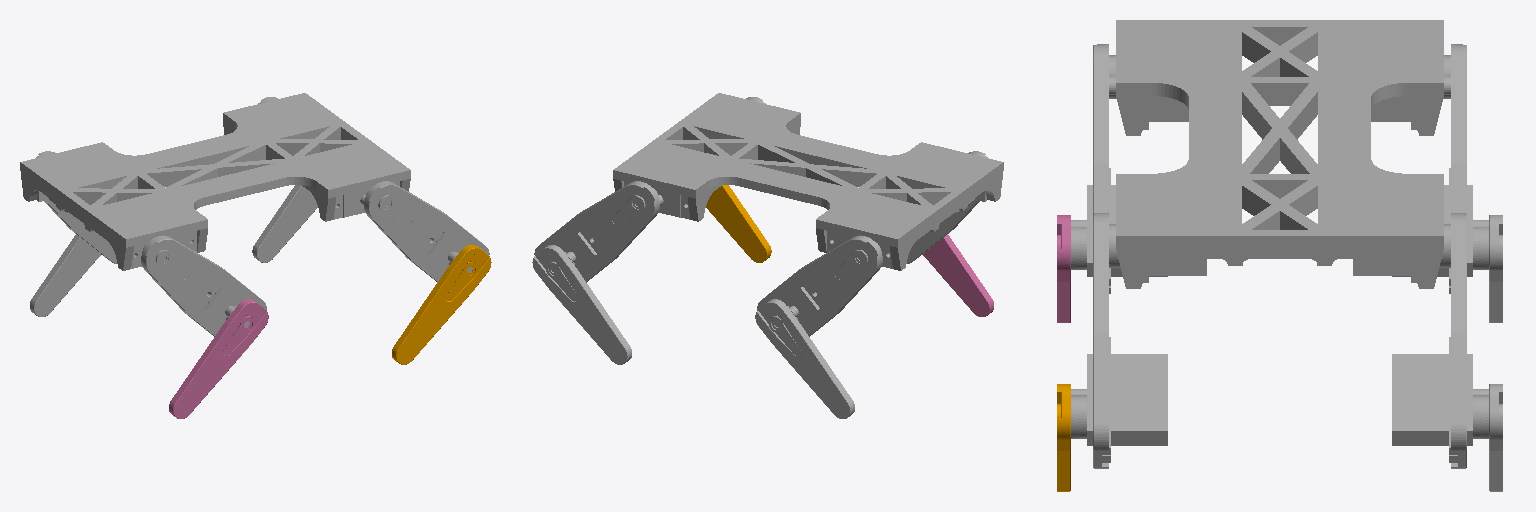
URDF robot description (svdog2_2):
<?xml version="1.0" ?>
<!-- =================================================================================== -->
<!-- |    This document was autogenerated by xacro from svdog2_2.xacro                 | -->
<!-- |    EDITING THIS FILE BY HAND IS NOT RECOMMENDED                                 | -->
<!-- =================================================================================== -->
<robot name="svdog2_2">
  <material name="default">
    <color rgba="0.700 0.700 0.700 1.000"/>
  </material>
  <transmission name="Rev49_tran">
    <type>transmission_interface/SimpleTransmission</type>
    <joint name="Rev49">
      <hardwareInterface>hardware_interface/EffortJointInterface</hardwareInterface>
    </joint>
    <actuator name="Rev49_actr">
      <hardwareInterface>hardware_interface/EffortJointInterface</hardwareInterface>
      <mechanicalReduction>1</mechanicalReduction>
    </actuator>
  </transmission>
  <transmission name="Rev50_tran">
    <type>transmission_interface/SimpleTransmission</type>
    <joint name="Rev50">
      <hardwareInterface>hardware_interface/EffortJointInterface</hardwareInterface>
    </joint>
    <actuator name="Rev50_actr">
      <hardwareInterface>hardware_interface/EffortJointInterface</hardwareInterface>
      <mechanicalReduction>1</mechanicalReduction>
    </actuator>
  </transmission>
  <transmission name="Rev51_tran">
    <type>transmission_interface/SimpleTransmission</type>
    <joint name="Rev51">
      <hardwareInterface>hardware_interface/EffortJointInterface</hardwareInterface>
    </joint>
    <actuator name="Rev51_actr">
      <hardwareInterface>hardware_interface/EffortJointInterface</hardwareInterface>
      <mechanicalReduction>1</mechanicalReduction>
    </actuator>
  </transmission>
  <transmission name="Rev52_tran">
    <type>transmission_interface/SimpleTransmission</type>
    <joint name="Rev52">
      <hardwareInterface>hardware_interface/EffortJointInterface</hardwareInterface>
    </joint>
    <actuator name="Rev52_actr">
      <hardwareInterface>hardware_interface/EffortJointInterface</hardwareInterface>
      <mechanicalReduction>1</mechanicalReduction>
    </actuator>
  </transmission>
  <transmission name="Rev53_tran">
    <type>transmission_interface/SimpleTransmission</type>
    <joint name="Rev53">
      <hardwareInterface>hardware_interface/EffortJointInterface</hardwareInterface>
    </joint>
    <actuator name="Rev53_actr">
      <hardwareInterface>hardware_interface/EffortJointInterface</hardwareInterface>
      <mechanicalReduction>1</mechanicalReduction>
    </actuator>
  </transmission>
  <transmission name="Rev54_tran">
    <type>transmission_interface/SimpleTransmission</type>
    <joint name="Rev54">
      <hardwareInterface>hardware_interface/EffortJointInterface</hardwareInterface>
    </joint>
    <actuator name="Rev54_actr">
      <hardwareInterface>hardware_interface/EffortJointInterface</hardwareInterface>
      <mechanicalReduction>1</mechanicalReduction>
    </actuator>
  </transmission>
  <transmission name="Rev55_tran">
    <type>transmission_interface/SimpleTransmission</type>
    <joint name="Rev55">
      <hardwareInterface>hardware_interface/EffortJointInterface</hardwareInterface>
    </joint>
    <actuator name="Rev55_actr">
      <hardwareInterface>hardware_interface/EffortJointInterface</hardwareInterface>
      <mechanicalReduction>1</mechanicalReduction>
    </actuator>
  </transmission>
  <transmission name="Rev56_tran">
    <type>transmission_interface/SimpleTransmission</type>
    <joint name="Rev56">
      <hardwareInterface>hardware_interface/EffortJointInterface</hardwareInterface>
    </joint>
    <actuator name="Rev56_actr">
      <hardwareInterface>hardware_interface/EffortJointInterface</hardwareInterface>
      <mechanicalReduction>1</mechanicalReduction>
    </actuator>
  </transmission>
  <link name="base_link">
    <inertial>
      <origin rpy="0 0 0" xyz="-5.624212056449514e-05 0.002508800042642536 -0.009416344958760807"/>
      <mass value="0.257"/>
      <inertia ixx="6.5e-05" ixy="0.0" ixz="-0.0" iyy="0.000179" iyz="-0.0" izz="0.000241"/>
    </inertial>
    <visual>
      <origin rpy="0 0 0" xyz="0 0 0"/>
      <geometry>
        <mesh filename="package://meshes/base_link.stl" scale="0.001 0.001 0.001"/>
      </geometry>
      <material name="default"/>
    </visual>
    <collision>
      <origin rpy="0 0 0" xyz="0 0 0"/>
      <geometry>
        <mesh filename="package://meshes/base_link.stl" scale="0.001 0.001 0.001"/>
      </geometry>
    </collision>
  </link>
  <link name="servo_leg_test_02_8">
    <inertial>
      <origin rpy="0 0 0" xyz="0.02613839119394082 -0.0010712301742271668 -0.026139027739486474"/>
      <mass value="0.017"/>
      <inertia ixx="2e-06" ixy="0.0" ixz="1e-06" iyy="4e-06" iyz="-0.0" izz="2e-06"/>
    </inertial>
    <visual>
      <origin rpy="0 0 0" xyz="-0.054744 -0.049309 0.013641"/>
      <geometry>
        <mesh filename="package://meshes/servo_leg_test_02_8.stl" scale="0.001 0.001 0.001"/>
      </geometry>
      <material name="default"/>
    </visual>
    <collision>
      <origin rpy="0 0 0" xyz="-0.054744 -0.049309 0.013641"/>
      <geometry>
        <mesh filename="package://meshes/servo_leg_test_02_8.stl" scale="0.001 0.001 0.001"/>
      </geometry>
    </collision>
  </link>
  <link name="servo_leg_test_03_8">
    <inertial>
      <origin rpy="0 0 0" xyz="-0.013105445311555428 0.0019695981363026527 -0.013105275734626817"/>
      <mass value="0.004"/>
      <inertia ixx="0.0" ixy="0.0" ixz="-0.0" iyy="1e-06" iyz="0.0" izz="0.0"/>
    </inertial>
    <visual>
      <origin rpy="0 0 0" xyz="-0.090099 -0.059809 0.048997"/>
      <geometry>
        <mesh filename="package://meshes/servo_leg_test_03_8.stl" scale="0.001 0.001 0.001"/>
      </geometry>
      <material name="default"/>
    </visual>
    <collision>
      <origin rpy="0 0 0" xyz="-0.090099 -0.059809 0.048997"/>
      <geometry>
        <mesh filename="package://meshes/servo_leg_test_03_8.stl" scale="0.001 0.001 0.001"/>
      </geometry>
    </collision>
  </link>
  <link name="servo_leg_test_02__1__2">
    <inertial>
      <origin rpy="0 0 0" xyz="0.026138391193940638 -0.0010712301742272015 -0.026139027739486717"/>
      <mass value="0.017"/>
      <inertia ixx="2e-06" ixy="0.0" ixz="1e-06" iyy="4e-06" iyz="-0.0" izz="2e-06"/>
    </inertial>
    <visual>
      <origin rpy="0 0 0" xyz="0.054856 -0.049309 0.013641"/>
      <geometry>
        <mesh filename="package://meshes/servo_leg_test_02__1__2.stl" scale="0.001 0.001 0.001"/>
      </geometry>
      <material name="default"/>
    </visual>
    <collision>
      <origin rpy="0 0 0" xyz="0.054856 -0.049309 0.013641"/>
      <geometry>
        <mesh filename="package://meshes/servo_leg_test_02__1__2.stl" scale="0.001 0.001 0.001"/>
      </geometry>
    </collision>
  </link>
  <link name="servo_leg_test_03__1__2">
    <inertial>
      <origin rpy="0 0 0" xyz="-0.013105445311555674 0.001969598136302507 -0.01310527573462756"/>
      <mass value="0.004"/>
      <inertia ixx="0.0" ixy="0.0" ixz="-0.0" iyy="1e-06" iyz="0.0" izz="0.0"/>
    </inertial>
    <visual>
      <origin rpy="0 0 0" xyz="0.019501 -0.059809 0.048997"/>
      <geometry>
        <mesh filename="package://meshes/servo_leg_test_03__1__2.stl" scale="0.001 0.001 0.001"/>
      </geometry>
      <material name="default"/>
    </visual>
    <collision>
      <origin rpy="0 0 0" xyz="0.019501 -0.059809 0.048997"/>
      <geometry>
        <mesh filename="package://meshes/servo_leg_test_03__1__2.stl" scale="0.001 0.001 0.001"/>
      </geometry>
    </collision>
  </link>
  <link name="servo_leg_test_02__1___1___1__2">
    <inertial>
      <origin rpy="0 0 0" xyz="0.026138391193940395 0.0010708302595121288 -0.026139027739486294"/>
      <mass value="0.017"/>
      <inertia ixx="2e-06" ixy="-0.0" ixz="1e-06" iyy="4e-06" iyz="0.0" izz="2e-06"/>
    </inertial>
    <visual>
      <origin rpy="0 0 0" xyz="0.054856 0.044291 0.013641"/>
      <geometry>
        <mesh filename="package://meshes/servo_leg_test_02__1___1___1__2.stl" scale="0.001 0.001 0.001"/>
      </geometry>
      <material name="default"/>
    </visual>
    <collision>
      <origin rpy="0 0 0" xyz="0.054856 0.044291 0.013641"/>
      <geometry>
        <mesh filename="package://meshes/servo_leg_test_02__1___1___1__2.stl" scale="0.001 0.001 0.001"/>
      </geometry>
    </collision>
  </link>
  <link name="servo_leg_test_03__1___1___1__2">
    <inertial>
      <origin rpy="0 0 0" xyz="-0.013105445311555938 -0.0019699980510178433 -0.013105275734626574"/>
      <mass value="0.004"/>
      <inertia ixx="0.0" ixy="-0.0" ixz="-0.0" iyy="1e-06" iyz="-0.0" izz="0.0"/>
    </inertial>
    <visual>
      <origin rpy="0 0 0" xyz="0.019501 0.054791 0.048997"/>
      <geometry>
        <mesh filename="package://meshes/servo_leg_test_03__1___1___1__2.stl" scale="0.001 0.001 0.001"/>
      </geometry>
      <material name="1"/>
    </visual>
    <collision>
      <origin rpy="0 0 0" xyz="0.019501 0.054791 0.048997"/>
      <geometry>
        <mesh filename="package://meshes/servo_leg_test_03__1___1___1__2.stl" scale="0.001 0.001 0.001"/>
      </geometry>
    </collision>
  </link>
  <link name="servo_leg_test_02__1___1__2">
    <inertial>
      <origin rpy="0 0 0" xyz="0.026138391193940166 0.0010708302595124897 -0.026139027739486294"/>
      <mass value="0.017"/>
      <inertia ixx="2e-06" ixy="-0.0" ixz="1e-06" iyy="4e-06" iyz="0.0" izz="2e-06"/>
    </inertial>
    <visual>
      <origin rpy="0 0 0" xyz="-0.054744 0.044291 0.013641"/>
      <geometry>
        <mesh filename="package://meshes/servo_leg_test_02__1___1__2.stl" scale="0.001 0.001 0.001"/>
      </geometry>
      <material name="default"/>
    </visual>
    <collision>
      <origin rpy="0 0 0" xyz="-0.054744 0.044291 0.013641"/>
      <geometry>
        <mesh filename="package://meshes/servo_leg_test_02__1___1__2.stl" scale="0.001 0.001 0.001"/>
      </geometry>
    </collision>
  </link>
  <link name="servo_leg_test_03__1___1__2">
    <inertial>
      <origin rpy="0 0 0" xyz="-0.01310544531155644 -0.0019699980510172743 -0.013105275734626665"/>
      <mass value="0.004"/>
      <inertia ixx="0.0" ixy="-0.0" ixz="-0.0" iyy="1e-06" iyz="-0.0" izz="0.0"/>
    </inertial>
    <visual>
      <origin rpy="0 0 0" xyz="-0.090099 0.054791 0.048997"/>
      <geometry>
        <mesh filename="package://meshes/servo_leg_test_03__1___1__2.stl" scale="0.001 0.001 0.001"/>
      </geometry>
      <material name="1"/>
    </visual>
    <collision>
      <origin rpy="0 0 0" xyz="-0.090099 0.054791 0.048997"/>
      <geometry>
        <mesh filename="package://meshes/servo_leg_test_03__1___1__2.stl" scale="0.001 0.001 0.001"/>
      </geometry>
    </collision>
  </link>
  <joint name="Rev49" type="revolute">
    <origin rpy="0 0 0" xyz="0.054744 0.049309 -0.013641"/>
    <parent link="base_link"/>
    <child link="servo_leg_test_02_8"/>
    <axis xyz="0.0 -1.0 -0.0"/>
    <limit effort="100" lower="-0.523599" upper="0.523599" velocity="100"/>
  </joint>
  <joint name="Rev50" type="revolute">
    <origin rpy="0 0 0" xyz="0.035355 0.0105 -0.035356"/>
    <parent link="servo_leg_test_02_8"/>
    <child link="servo_leg_test_03_8"/>
    <axis xyz="-0.0 -1.0 -0.0"/>
    <limit effort="100" lower="-0.523599" upper="0.523599" velocity="100"/>
  </joint>
  <joint name="Rev51" type="revolute">
    <origin rpy="0 0 0" xyz="-0.054856 0.049309 -0.013641"/>
    <parent link="base_link"/>
    <child link="servo_leg_test_02__1__2"/>
    <axis xyz="0.0 -1.0 -0.0"/>
    <limit effort="100" lower="-0.523599" upper="0.523599" velocity="100"/>
  </joint>
  <joint name="Rev52" type="revolute">
    <origin rpy="0 0 0" xyz="0.035355 0.0105 -0.035356"/>
    <parent link="servo_leg_test_02__1__2"/>
    <child link="servo_leg_test_03__1__2"/>
    <axis xyz="-0.0 -1.0 -0.0"/>
    <limit effort="100" lower="-0.523599" upper="0.523599" velocity="100"/>
  </joint>
  <joint name="Rev53" type="revolute">
    <origin rpy="0 0 0" xyz="-0.054856 -0.044291 -0.013641"/>
    <parent link="base_link"/>
    <child link="servo_leg_test_02__1___1___1__2"/>
    <axis xyz="-0.0 1.0 0.0"/>
    <limit effort="100" lower="-0.523599" upper="0.523599" velocity="100"/>
  </joint>
  <joint name="Rev54" type="revolute">
    <origin rpy="0 0 0" xyz="0.035355 -0.0105 -0.035356"/>
    <parent link="servo_leg_test_02__1___1___1__2"/>
    <child link="servo_leg_test_03__1___1___1__2"/>
    <axis xyz="-0.0 1.0 -0.0"/>
    <limit effort="100" lower="-0.523599" upper="0.523599" velocity="100"/>
  </joint>
  <joint name="Rev55" type="revolute">
    <origin rpy="0 0 0" xyz="0.054744 -0.044291 -0.013641"/>
    <parent link="base_link"/>
    <child link="servo_leg_test_02__1___1__2"/>
    <axis xyz="-0.0 1.0 0.0"/>
    <limit effort="100" lower="-0.523599" upper="0.523599" velocity="100"/>
  </joint>
  <joint name="Rev56" type="revolute">
    <origin rpy="0 0 0" xyz="0.035355 -0.0105 -0.035356"/>
    <parent link="servo_leg_test_02__1___1__2"/>
    <child link="servo_leg_test_03__1___1__2"/>
    <axis xyz="-0.0 1.0 0.0"/>
    <limit effort="100" lower="-0.523599" upper="0.523599" velocity="100"/>
  </joint>
</robot>

--- Render facts (derived) ---
The picture shows the robot from 3 angles, left to right: view 1: azimuth 30°, elevation 25°; view 2: azimuth 150°, elevation 25°; view 3: azimuth 270°, elevation 25°; orthographic projection.
Model svdog2_2 with 9 links and 8 joints (8 revolute), rooted at base_link, posed every joint at zero.
Links seen in each view (by area): view 1: base_link, servo_leg_test_02__1___1___1__2, servo_leg_test_02__1___1__2, servo_leg_test_03__1___1___1__2, servo_leg_test_03__1___1__2, servo_leg_test_03__1__2, servo_leg_test_03_8, servo_leg_test_02__1__2; view 2: base_link, servo_leg_test_02__1__2, servo_leg_test_02_8, servo_leg_test_03__1__2, servo_leg_test_03_8, servo_leg_test_03__1___1___1__2, servo_leg_test_03__1___1__2, servo_leg_test_02__1___1___1__2; view 3: base_link, servo_leg_test_02_8, servo_leg_test_02__1___1__2, servo_leg_test_02__1__2, servo_leg_test_02__1___1___1__2, servo_leg_test_03__1__2, servo_leg_test_03__1___1___1__2, servo_leg_test_03_8, servo_leg_test_03__1___1__2.
Boxes of the visible links, bbox=[...] form: base_link: bbox=[20, 93, 410, 270]; servo_leg_test_02__1___1___1__2: bbox=[141, 235, 266, 336]; servo_leg_test_02__1___1__2: bbox=[364, 181, 489, 282]; servo_leg_test_03__1___1___1__2: bbox=[169, 299, 268, 418]; servo_leg_test_03__1___1__2: bbox=[392, 245, 491, 364]; servo_leg_test_03__1__2: bbox=[30, 234, 101, 316]; servo_leg_test_03_8: bbox=[252, 185, 317, 262]; servo_leg_test_02__1__2: bbox=[36, 151, 116, 263]; base_link: bbox=[613, 93, 1003, 270]; servo_leg_test_02__1__2: bbox=[757, 235, 882, 336]; servo_leg_test_02_8: bbox=[534, 181, 659, 282]; servo_leg_test_03__1__2: bbox=[755, 299, 854, 418]; servo_leg_test_03_8: bbox=[532, 245, 631, 364]; servo_leg_test_03__1___1___1__2: bbox=[922, 234, 993, 316]; servo_leg_test_03__1___1__2: bbox=[706, 185, 771, 262]; servo_leg_test_02__1___1___1__2: bbox=[907, 151, 987, 263]; base_link: bbox=[1109, 20, 1450, 288]; servo_leg_test_02_8: bbox=[1392, 213, 1488, 468]; servo_leg_test_02__1___1__2: bbox=[1071, 213, 1167, 468]; servo_leg_test_02__1__2: bbox=[1392, 44, 1488, 293]; servo_leg_test_02__1___1___1__2: bbox=[1071, 44, 1167, 293]; servo_leg_test_03__1__2: bbox=[1489, 215, 1502, 322]; servo_leg_test_03__1___1___1__2: bbox=[1057, 215, 1070, 322]; servo_leg_test_03_8: bbox=[1489, 384, 1502, 491]; servo_leg_test_03__1___1__2: bbox=[1057, 384, 1070, 491].
Size in the robot's own frame: 0.1752 by 0.1226 by 0.0823 metres.
9 mesh visuals loaded from 9 distinct referenced files (9 binary STL).
